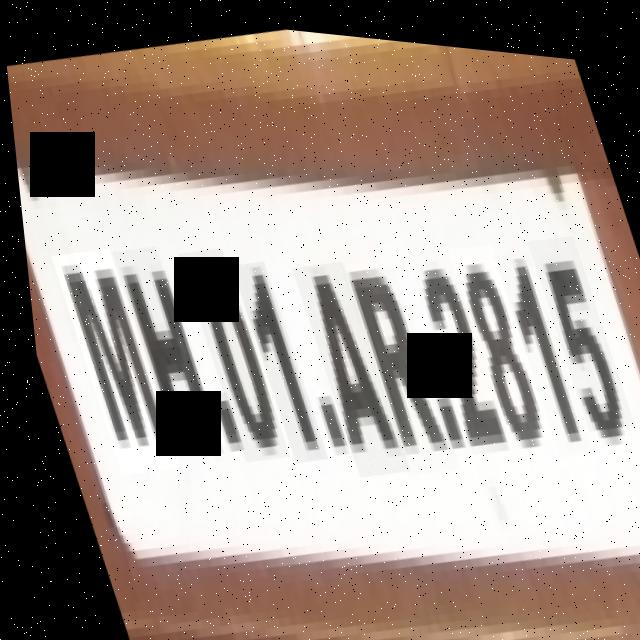0: (172, 239, 281, 461)
1: (488, 237, 586, 449), (225, 253, 319, 460)
5: (521, 219, 628, 423)
8: (442, 230, 546, 437)
A: (285, 250, 402, 474)
H: (105, 240, 203, 420)
M: (44, 241, 172, 478)
R: (336, 254, 452, 471)
